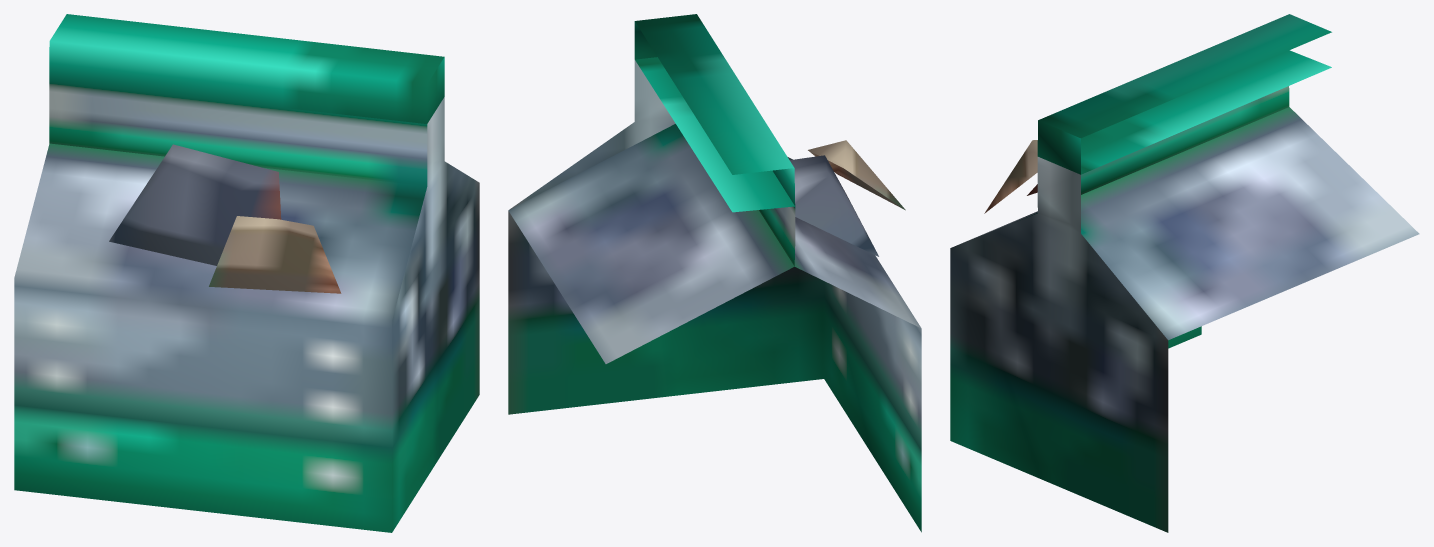
The model's file is fg_S_toolbox_D_out.dae.
3 views of the same model, side by side, from view 1: azimuth 30°, elevation 25°; view 2: azimuth 150°, elevation 25°; view 3: azimuth 270°, elevation 25° (orthographic). The views are drawn at different scales.
Parts seen in each view (by area): view 1: fg_S_toolbox_D_out; view 2: fg_S_toolbox_D_out; view 3: fg_S_toolbox_D_out.
Boxes of the visible parts, <box> form: fg_S_toolbox_D_out: <box>14,14,479,532</box>; fg_S_toolbox_D_out: <box>508,14,921,532</box>; fg_S_toolbox_D_out: <box>950,14,1419,532</box>.
Bounding box in the file's own units: 19.8 × 16.64 × 19.8.
1 material, 1 textured.
